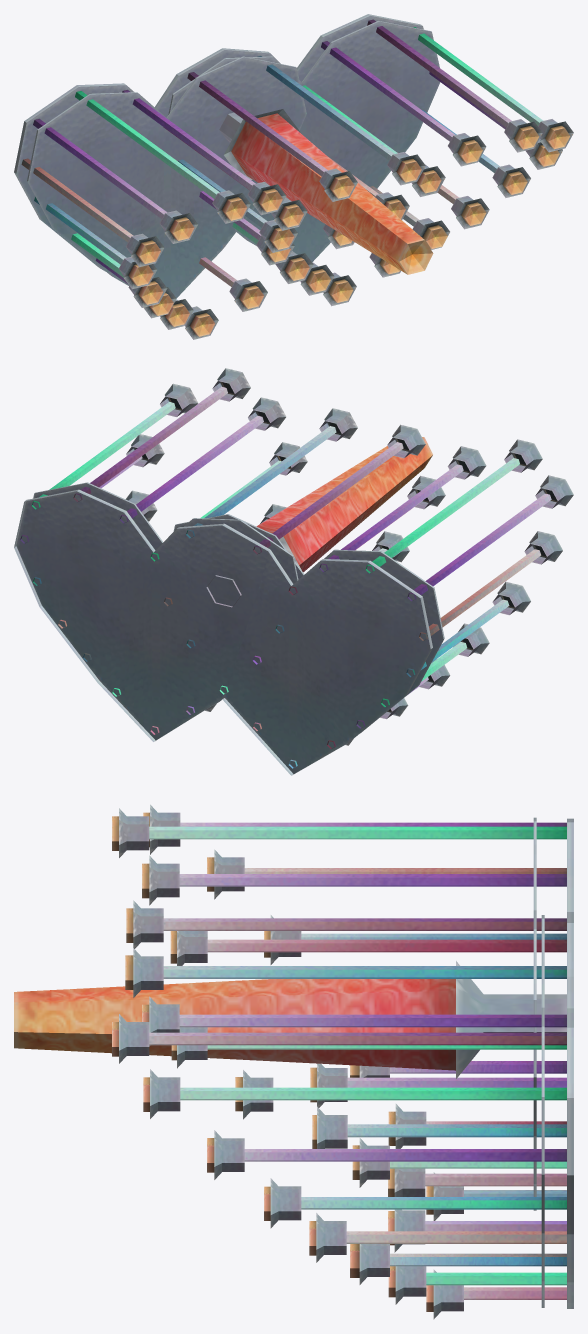
Rendered from huisuo_dongxue_209_shiwu.obj.
3 views of the same model, one above another, from view 1: azimuth 30°, elevation 25°; view 2: azimuth 150°, elevation 25°; view 3: azimuth 270°, elevation 25° (orthographic). The views are drawn at different scales.
Parts seen in each view (by area): view 1: objCylinder01; view 2: objCylinder01; view 3: objCylinder01.
Part boxes in pixels (x1=…): objCylinder01: x1=14, y1=14, x2=573, y2=339; objCylinder01: x1=14, y1=368, x2=573, y2=775; objCylinder01: x1=14, y1=804, x2=573, y2=1319.
Bounding box in the file's own units: 191 × 102 × 148.
1 material, 1 textured.
